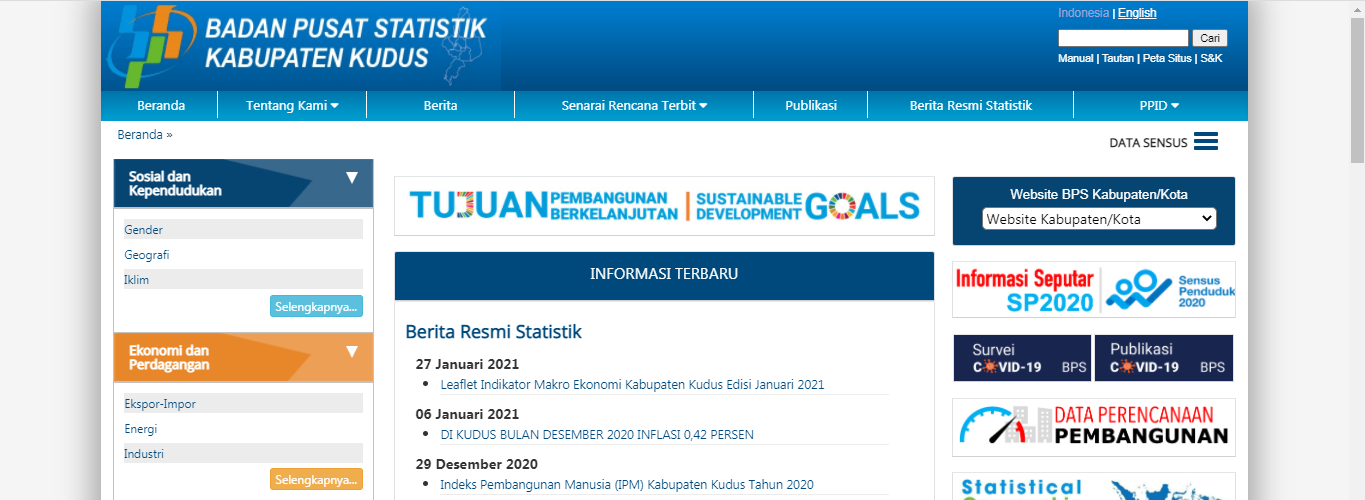Button: (270, 464, 366, 496), (266, 292, 367, 320), (1191, 24, 1228, 54)
Image: (102, 1, 503, 94), (945, 390, 1237, 461), (954, 262, 1102, 318), (1092, 333, 1236, 385), (1101, 264, 1237, 315), (952, 334, 1091, 382)
Menu Bar: (101, 94, 1245, 120)
Nav Bar: (979, 207, 1218, 231), (123, 394, 200, 414), (110, 122, 181, 142), (1189, 126, 1224, 157), (1051, 3, 1110, 21), (121, 443, 168, 464), (121, 245, 172, 262), (123, 221, 167, 240), (121, 419, 159, 441), (1144, 53, 1193, 68), (1114, 5, 1159, 21), (1055, 52, 1096, 68), (1099, 51, 1138, 67), (1197, 50, 1226, 69), (120, 274, 154, 287)
Side Bar: (946, 171, 1239, 466), (111, 331, 372, 499), (112, 160, 374, 325)
Text Field: (1057, 28, 1189, 49)
